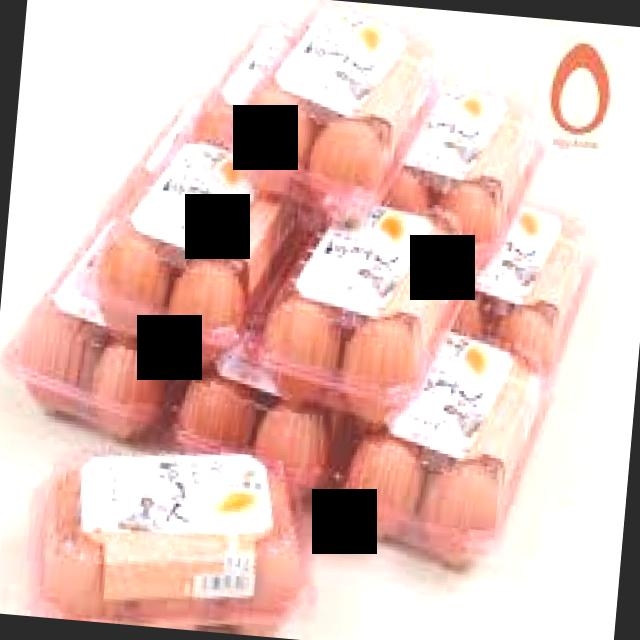egg: (18, 450, 314, 640), (342, 331, 555, 568), (74, 140, 300, 363), (254, 205, 470, 426), (234, 9, 439, 223), (0, 241, 177, 444), (384, 84, 547, 276), (453, 206, 604, 377), (175, 377, 328, 492)
